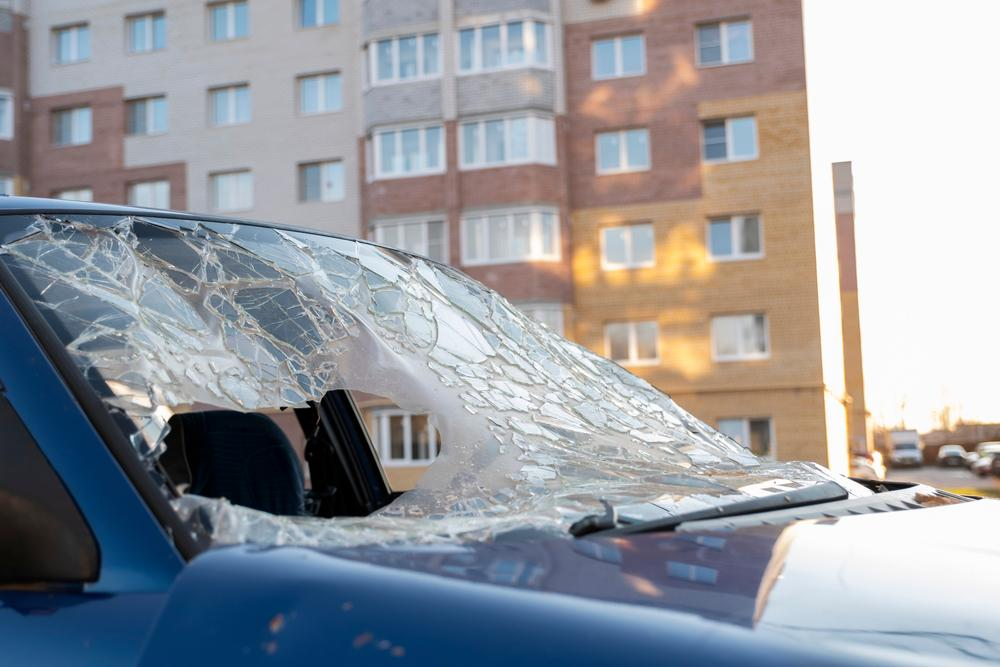glass shatter: (0, 214, 871, 551)
